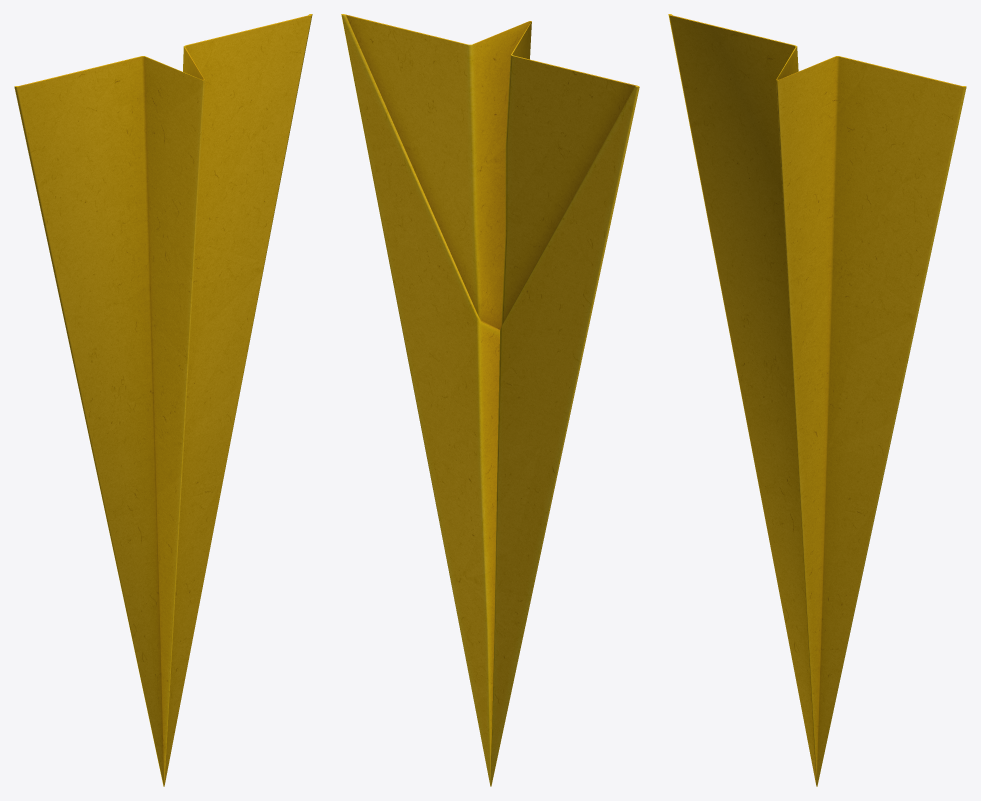
File: hl_ramp_paper_tall.fbx
3 views of the same model, side by side, from view 1: azimuth 30°, elevation 25°; view 2: azimuth 150°, elevation 25°; view 3: azimuth 330°, elevation 25° (orthographic).
Parts seen in each view (by area): view 1: hl_ramp_paper_tall; view 2: hl_ramp_paper_tall; view 3: hl_ramp_paper_tall.
Part boxes in pixels (x1,y1,x2,y2): hl_ramp_paper_tall: [14, 14, 312, 786]; hl_ramp_paper_tall: [341, 14, 639, 786]; hl_ramp_paper_tall: [668, 14, 966, 786].
Size of the model in its own units: 28.72 by 67.73 by 7.17.
